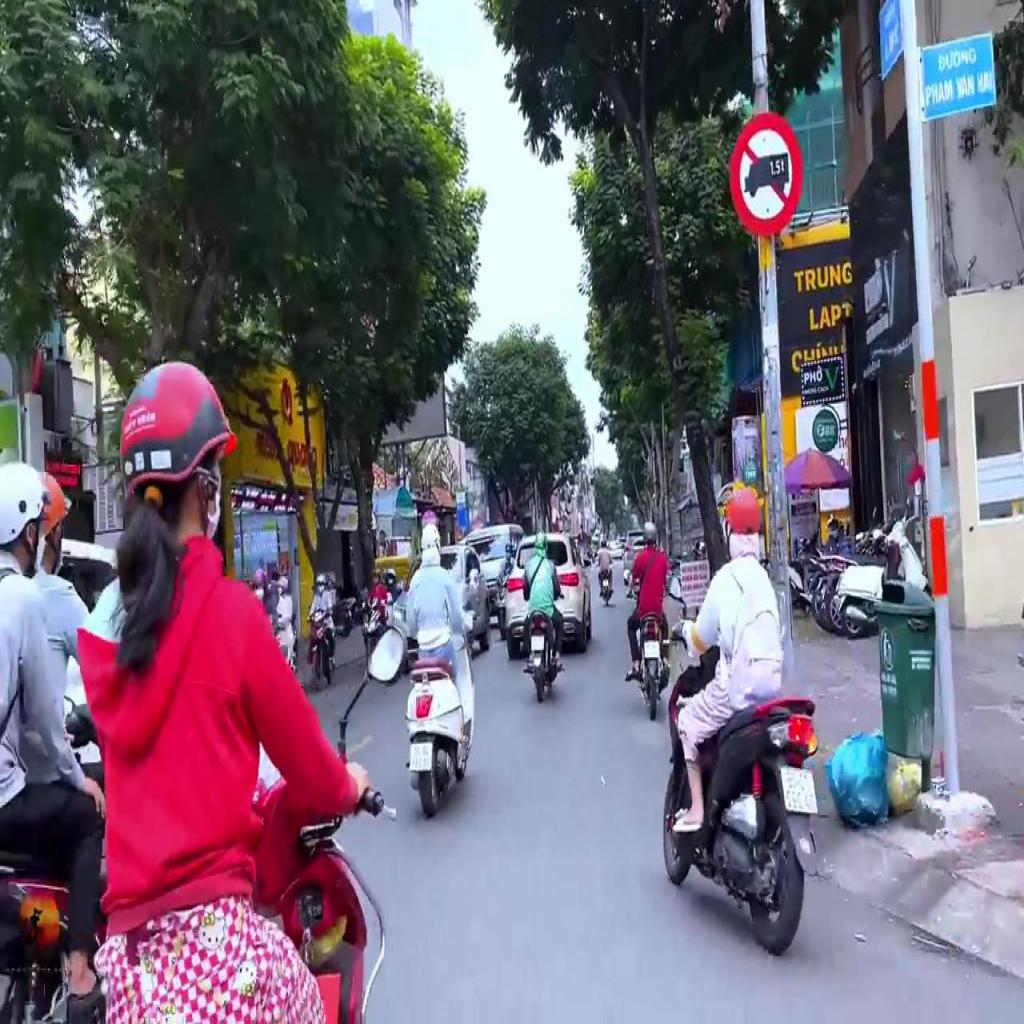cam_o_to_tai: (728, 112, 802, 234)
